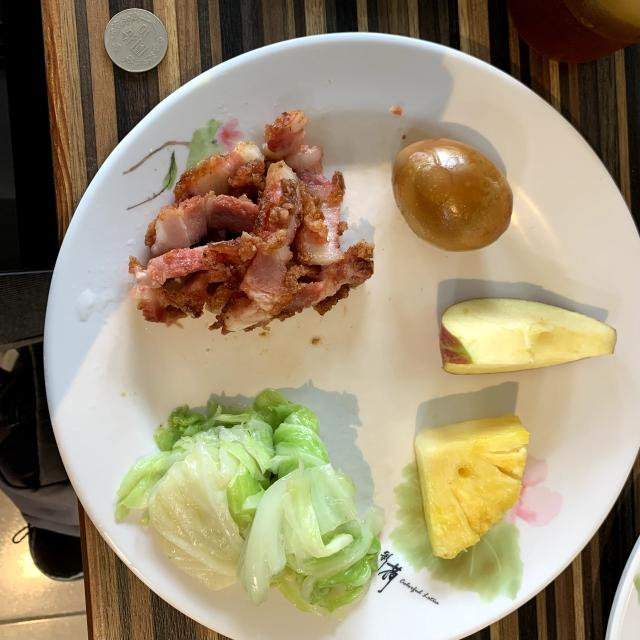apple -sliced-: (440, 298, 616, 374)
cabbage: (115, 390, 381, 618)
coin: (104, 9, 168, 72)
pineapple: (414, 415, 529, 559)
red grilled pork: (129, 111, 374, 334)
soy egg: (392, 139, 512, 251)
